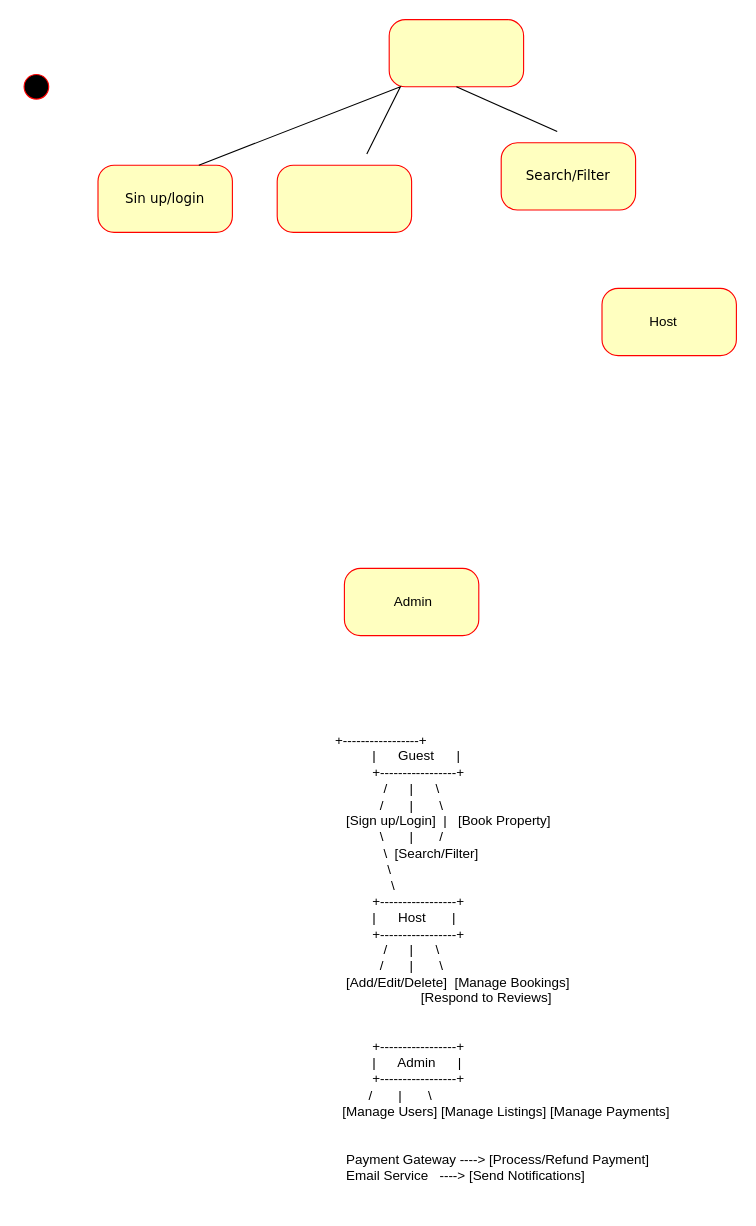
The diagram is 756 pixels wide and 1226 high, and some of its shapes have lost their labels. The shapes that lost their labels are listed below. From the top down, each one's box as (x1, y1, x2, y2) in pixels, then its label:
(388, 18, 524, 87): Guest
(276, 164, 412, 232): Book
